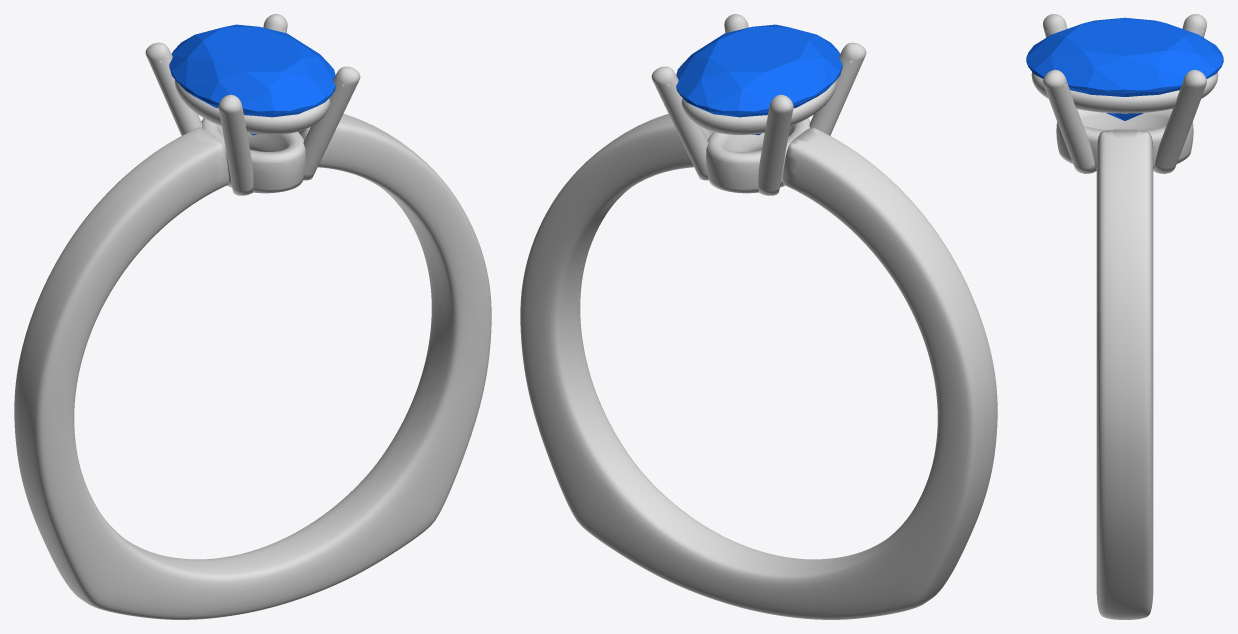
The model's file is bluesapphire-oval-platinum-4prong-europeanshank-nosidestones.glb.
3 views of the same model, side by side, from view 1: azimuth 30°, elevation 25°; view 2: azimuth 150°, elevation 25°; view 3: azimuth 270°, elevation 25° (orthographic).
Visible parts, largest first — view 1: metal, stone; view 2: metal, stone; view 3: metal, stone.
Boxes of the visible parts, bbox=[...] form: metal: bbox=[14, 14, 491, 619]; stone: bbox=[169, 24, 335, 135]; metal: bbox=[520, 14, 997, 619]; stone: bbox=[676, 24, 842, 135]; metal: bbox=[1031, 14, 1218, 619]; stone: bbox=[1026, 17, 1223, 120].
Bounding box in the file's own units: 20.11 × 23.21 × 7.64.
